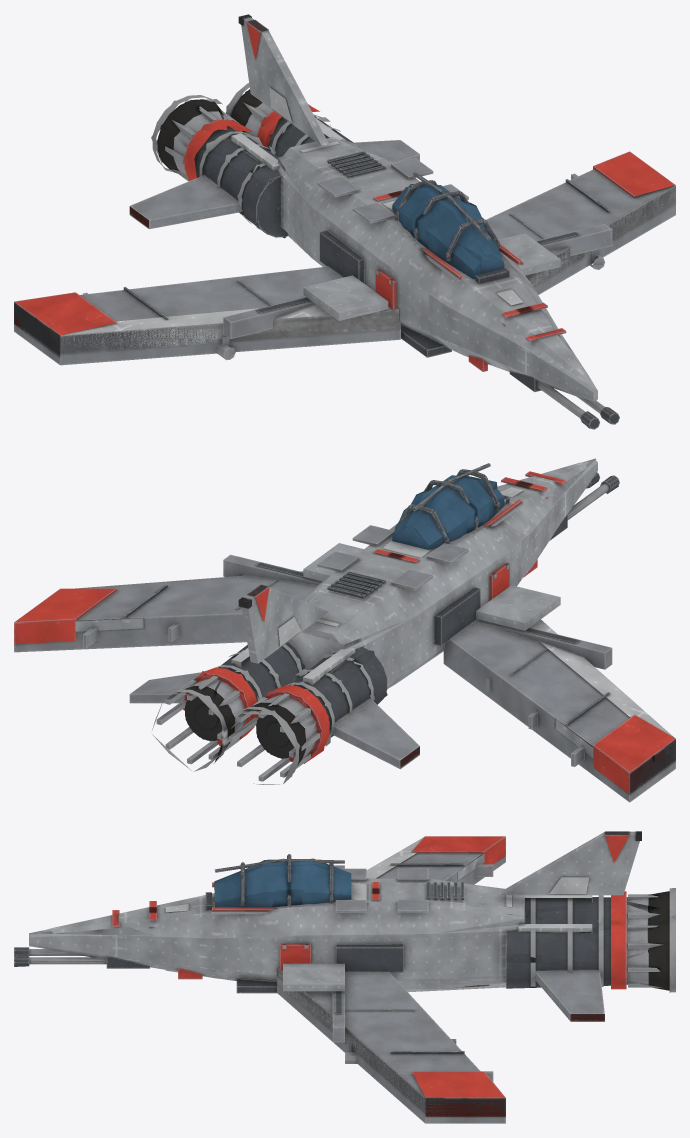
File: sd_ship_sahin.glb
3 renders of one model, top to bottom at view 1: azimuth 30°, elevation 25°; view 2: azimuth 150°, elevation 25°; view 3: azimuth 270°, elevation 25°, orthographic. The views are drawn at different scales.
Parts seen in each view (by area): view 1: LOD0_body, LOD1_body; view 2: LOD0_body, LOD1_body; view 3: LOD0_body, LOD1_body.
Boxes of the visible parts, bbox=[...] form: LOD0_body: bbox=[14, 14, 675, 429]; LOD1_body: bbox=[14, 18, 675, 428]; LOD0_body: bbox=[14, 460, 675, 802]; LOD1_body: bbox=[14, 458, 675, 801]; LOD0_body: bbox=[14, 831, 675, 1123]; LOD1_body: bbox=[14, 832, 675, 1123].
Size of the model in its own units: 0.9346 by 0.2664 by 1.
Materials: 1 (1 with a texture image).
